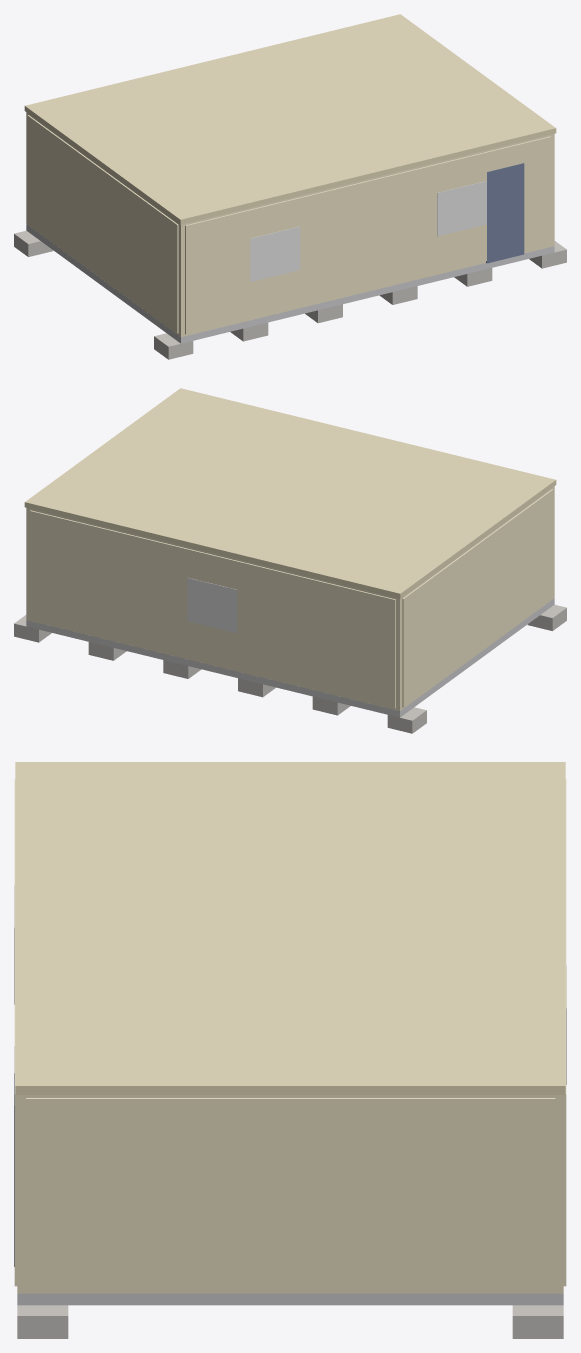
The model's file is Studio-30-Base-RiceYellow-LOD1.glb.
The picture shows the model from 3 angles, top to bottom: view 1: azimuth 30°, elevation 25°; view 2: azimuth 150°, elevation 25°; view 3: azimuth 270°, elevation 25°; orthographic projection. The views are drawn at different scales.
Visible parts, largest first — view 1: RoofMain, ExteriorPanelsStandard, WindowsStandard, BaseFrame, FoundationBlocks, EntryDoor, ExteriorShell; view 2: RoofMain, ExteriorPanelsStandard, BaseFrame, FoundationBlocks, ExteriorShell, WindowsStandard; view 3: RoofMain, ExteriorPanelsStandard, BaseFrame, ExteriorShell, FoundationBlocks.
Part boxes in pixels (bbox=[...]): RoofMain: bbox=[24, 14, 556, 224]; ExteriorPanelsStandard: bbox=[27, 115, 551, 334]; WindowsStandard: bbox=[250, 181, 486, 281]; BaseFrame: bbox=[26, 224, 554, 343]; FoundationBlocks: bbox=[14, 230, 566, 359]; EntryDoor: bbox=[486, 163, 524, 263]; ExteriorShell: bbox=[26, 112, 554, 336]; RoofMain: bbox=[24, 388, 556, 598]; ExteriorPanelsStandard: bbox=[30, 489, 553, 708]; BaseFrame: bbox=[26, 598, 554, 717]; FoundationBlocks: bbox=[14, 604, 566, 733]; ExteriorShell: bbox=[26, 486, 554, 710]; WindowsStandard: bbox=[187, 577, 237, 633]; RoofMain: bbox=[15, 762, 565, 1094]; ExteriorPanelsStandard: bbox=[14, 779, 566, 1290]; BaseFrame: bbox=[17, 1293, 563, 1305]; ExteriorShell: bbox=[17, 1095, 563, 1293]; FoundationBlocks: bbox=[17, 1305, 563, 1338].
Bounding box in the file's own units: 9.6 × 3.17 × 6.53.
